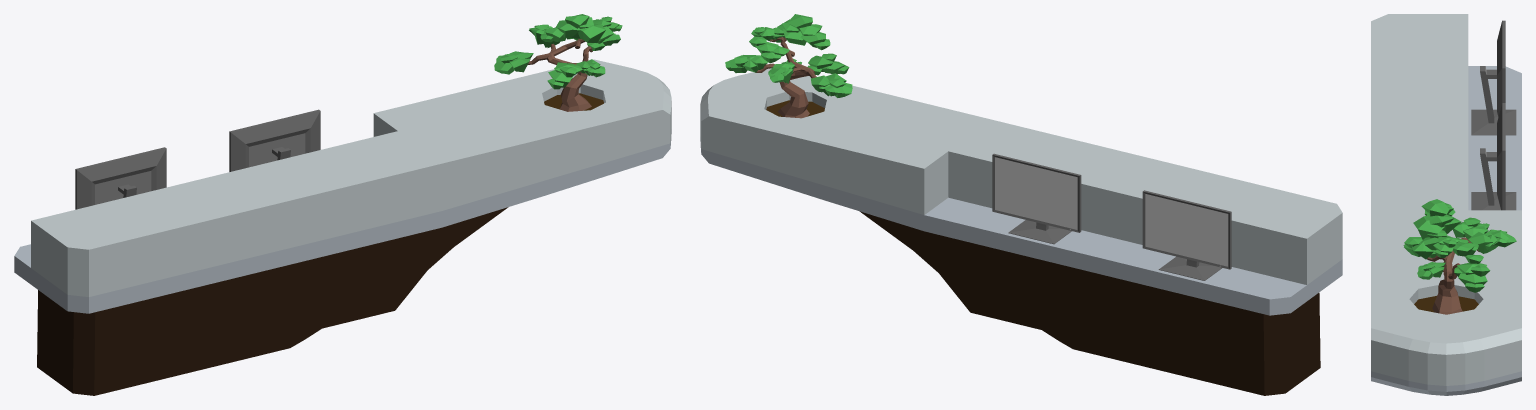
File: deskv3.glb
3 views of the same model, side by side, from view 1: azimuth 30°, elevation 25°; view 2: azimuth 150°, elevation 25°; view 3: azimuth 270°, elevation 25° (orthographic). The views are drawn at different scales.
Visible parts, largest first — view 1: Reception Desk, Bonsai, Monitor 2, Monitor 1; view 2: Reception Desk, Monitor 1, Monitor 2, Bonsai; view 3: Reception Desk, Bonsai, Monitor 2, Monitor 1.
Part boxes in pixels (box(x1,y1,x2,y2)): Reception Desk: box(14, 59, 671, 395); Bonsai: box(494, 14, 622, 111); Monitor 2: box(75, 147, 166, 209); Monitor 1: box(229, 109, 320, 171); Reception Desk: box(700, 68, 1342, 395); Monitor 1: box(992, 153, 1081, 244); Monitor 2: box(1142, 190, 1231, 280); Bonsai: box(725, 14, 852, 118); Reception Desk: box(1371, 14, 1521, 395); Bonsai: box(1403, 199, 1516, 314); Monitor 2: box(1471, 20, 1516, 135); Monitor 1: box(1471, 103, 1516, 210).
Size of the model in its own units: 4.18 by 1.55 by 0.8.
